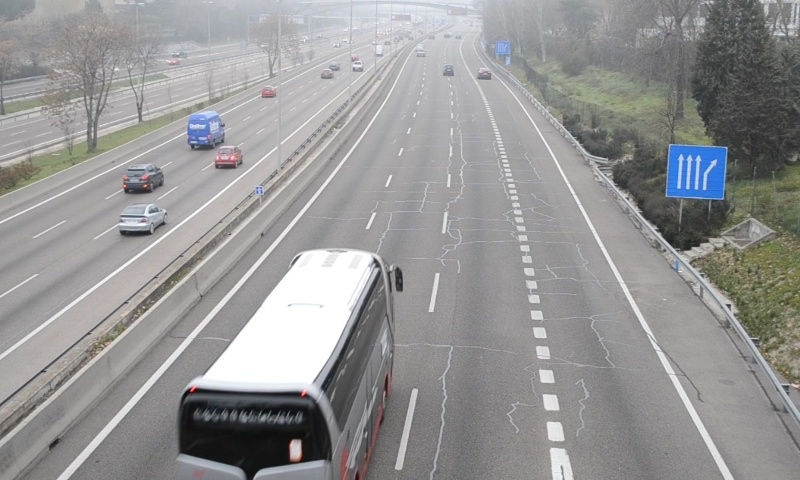bus: (176, 248, 395, 480)
car: (477, 67, 492, 80), (442, 63, 455, 77)
